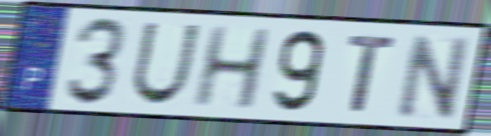3: (65, 15, 127, 108)
9: (270, 29, 326, 114)
H: (189, 24, 273, 112)
N: (395, 31, 473, 120)
T: (345, 33, 401, 115)
U: (128, 19, 204, 108)
